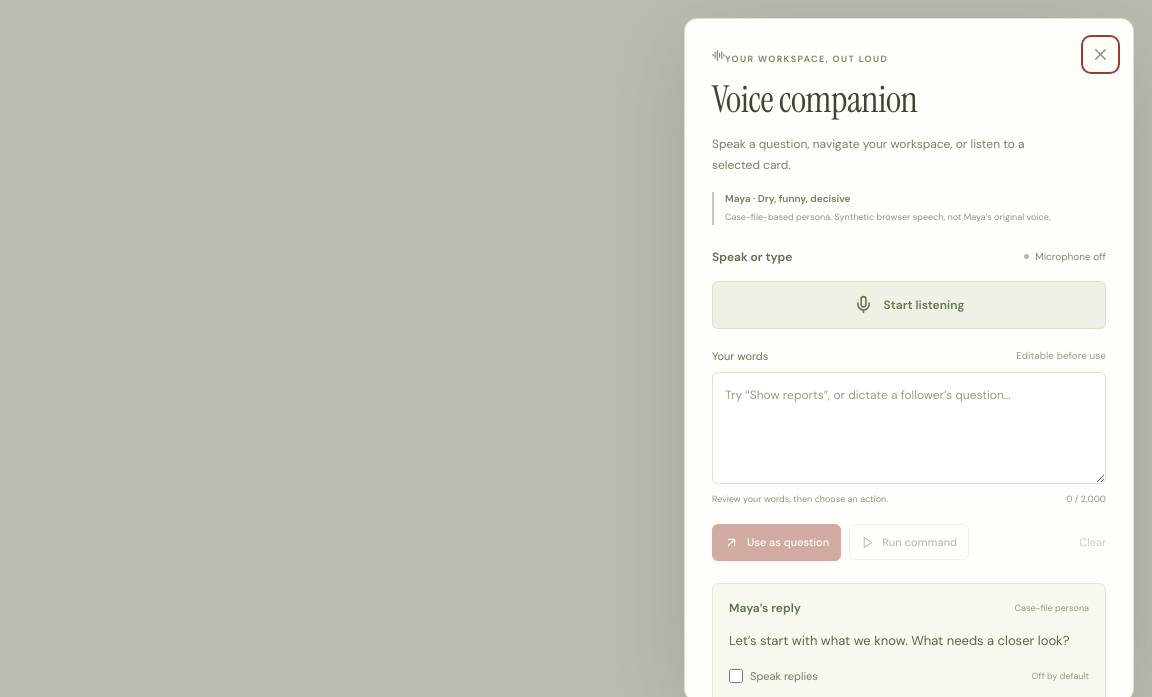
Test: Voice companion with simulated browser speech APIs › keeps an unrecognised command editable and shows its explanation inside the panel
Type "Draft an answer" into the text box.
click(909, 428); type("Draft an answer")  # box [712, 372, 1106, 484]
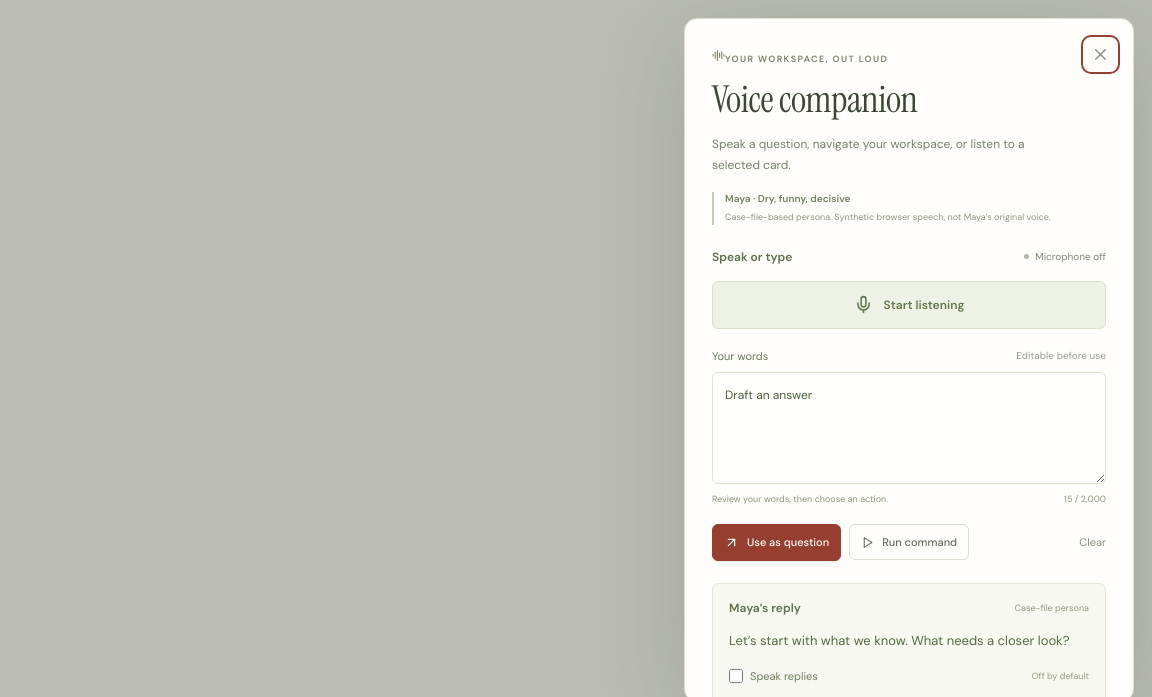
Click the button "Run command".
click(909, 542)  # box [849, 524, 969, 560]
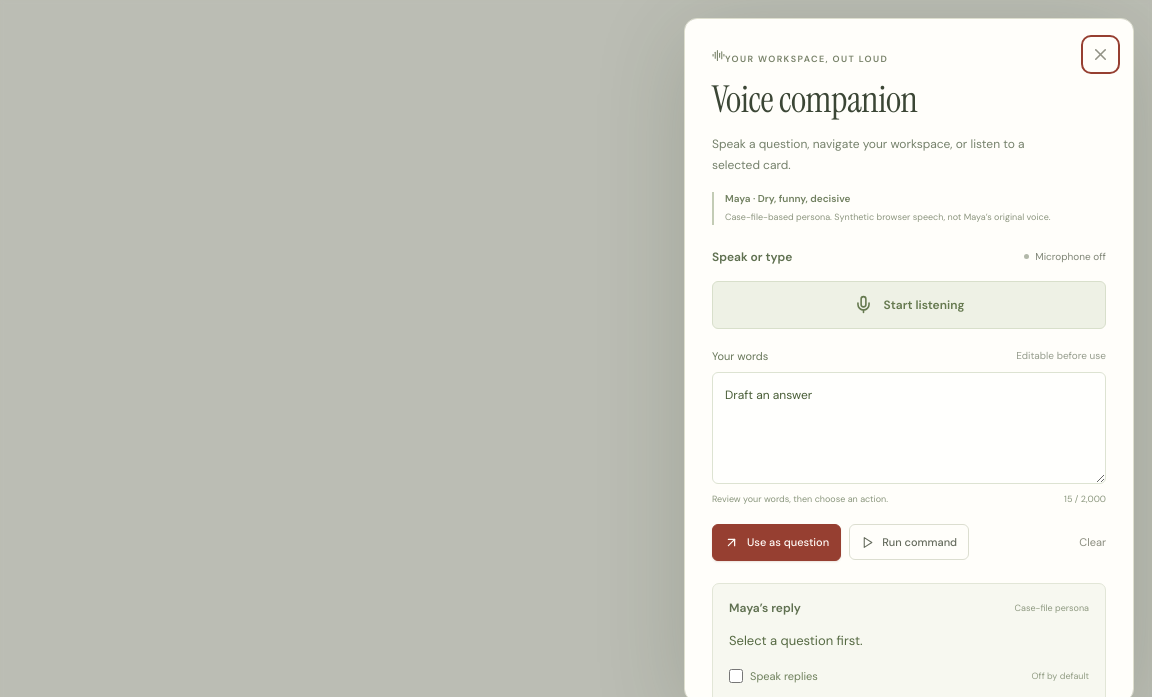
expect the message "Select a question first." is shown: met, box [729, 632, 863, 649]
